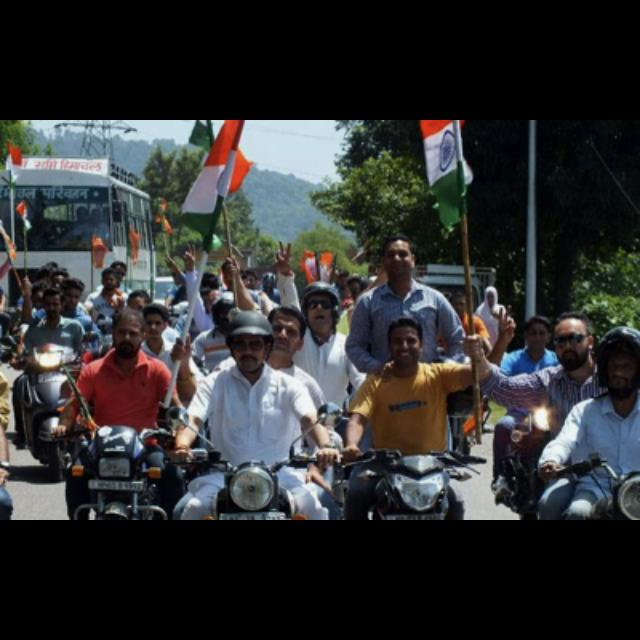With Helmet: (224, 307, 272, 373)
Without Helmet: (552, 313, 592, 372), (388, 317, 422, 371), (108, 307, 144, 357), (379, 237, 416, 285), (44, 288, 62, 322)
